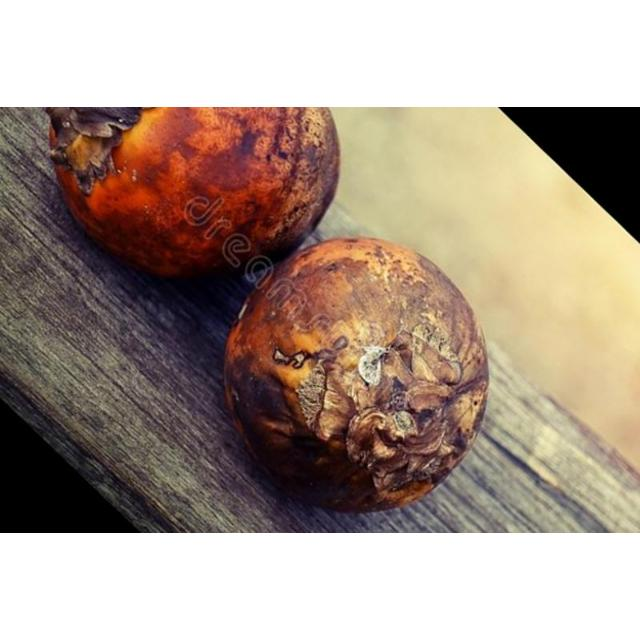damaged: (223, 238, 490, 514), (46, 107, 341, 281)
